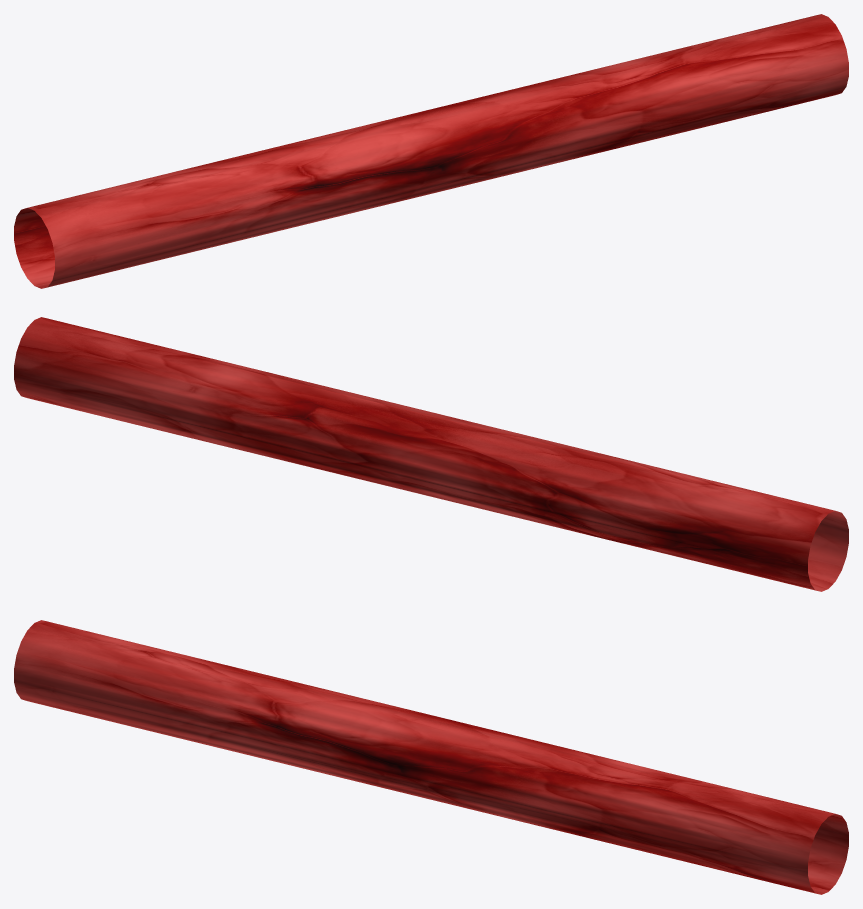
Rendered from steam.glb.
The picture shows the model from 3 angles, top to bottom: view 1: azimuth 30°, elevation 25°; view 2: azimuth 150°, elevation 25°; view 3: azimuth 330°, elevation 25°; orthographic projection.
Visible parts, largest first — view 1: vessel; view 2: vessel; view 3: vessel.
Part boxes in pixels (x1,y1,x2,y2): vessel: [14, 14, 848, 288]; vessel: [14, 317, 848, 591]; vessel: [14, 620, 848, 894].
Bounding box in the file's own units: 39.4 × 3.57 × 3.52.
2 materials, 1 textured.
